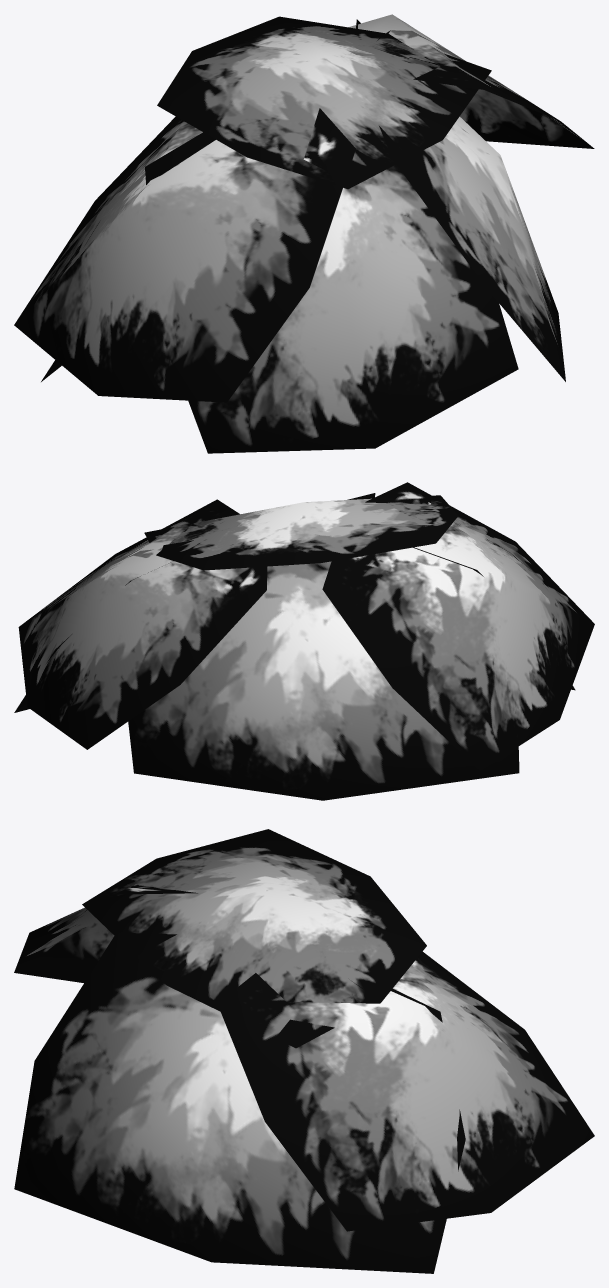
The model's file is BushV1.fbx.
The picture shows the model from 3 angles, top to bottom: view 1: azimuth 30°, elevation 25°; view 2: azimuth 150°, elevation 25°; view 3: azimuth 270°, elevation 25°; orthographic projection. The views are drawn at different scales.
Visible parts, largest first — view 1: BushV1; view 2: BushV1; view 3: BushV1.
Part boxes in pixels (x1=…): BushV1: x1=14, y1=14, x2=594, y2=453; BushV1: x1=14, y1=482, x2=594, y2=800; BushV1: x1=14, y1=829, x2=594, y2=1273.
Size of the model in its own units: 3.43 by 1.59 by 3.09.
